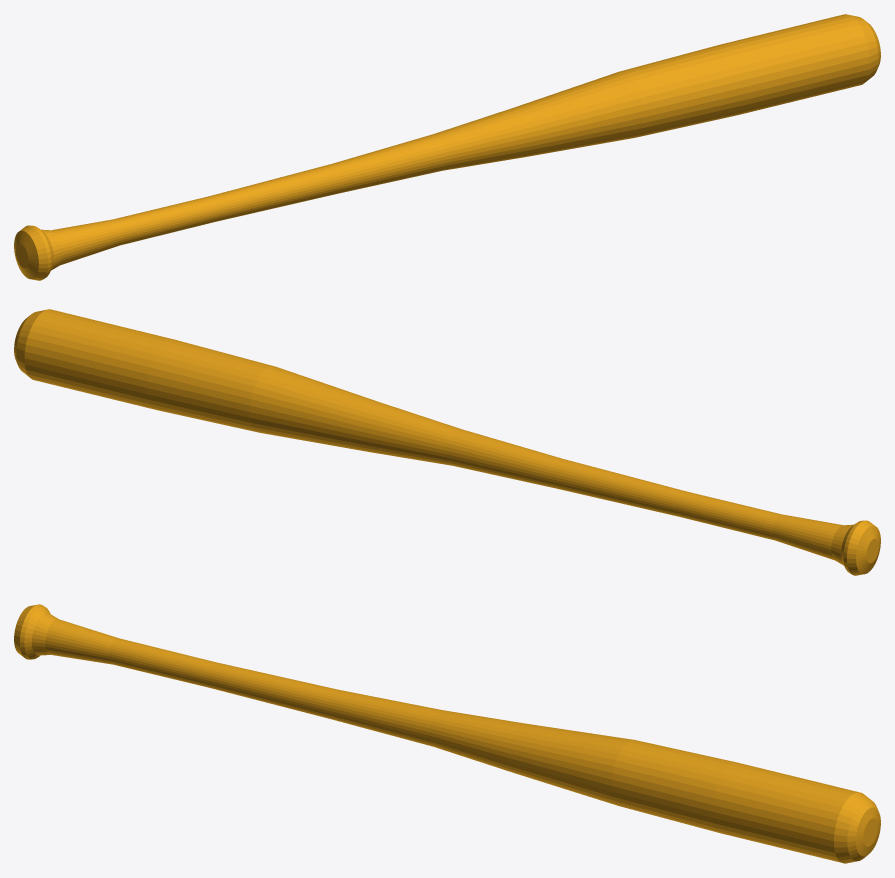
Rendered from BaseballBat.fbx.
3 renders of one model, top to bottom at view 1: azimuth 30°, elevation 25°; view 2: azimuth 150°, elevation 25°; view 3: azimuth 330°, elevation 25°, orthographic.
Parts seen in each view (by area): view 1: Cylinder; view 2: Cylinder; view 3: Cylinder.
Part boxes in pixels (x1=…): Cylinder: x1=14, y1=14, x2=880, y2=280; Cylinder: x1=14, y1=309, x2=880, y2=575; Cylinder: x1=14, y1=604, x2=880, y2=863.
Size of the model in its own units: 440 by 32.86 by 32.86.
